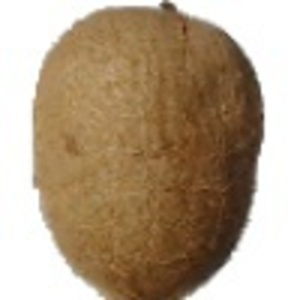kiwi: (30, 1, 266, 300)
